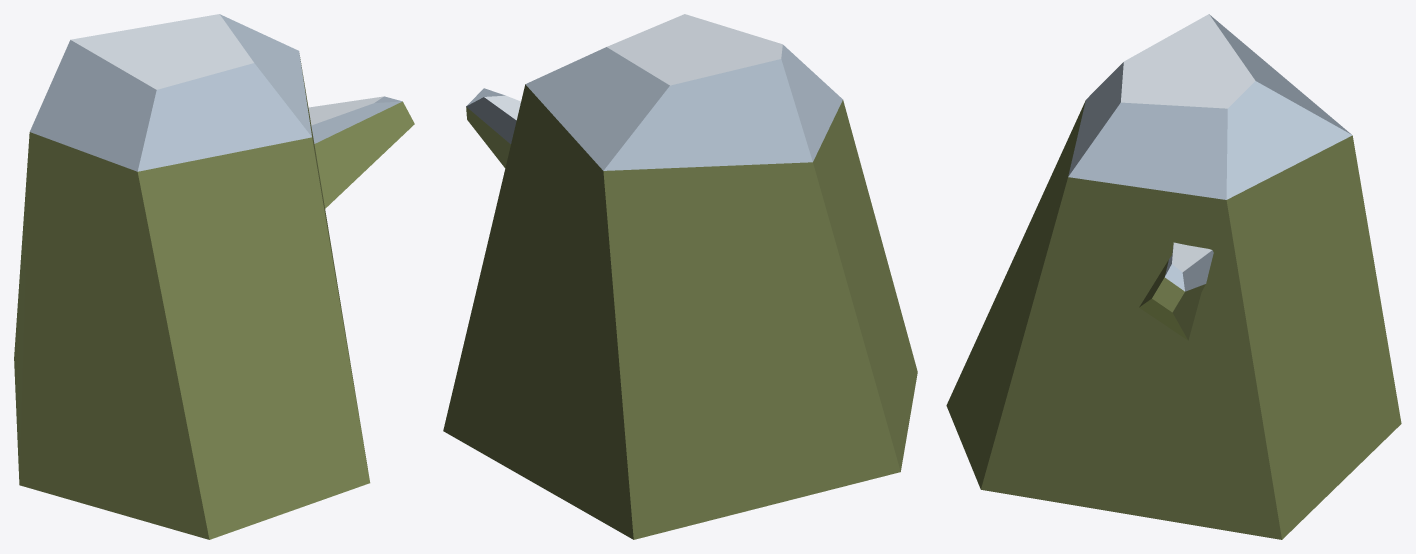
The model's file is StumpWinter1_Alt4.fbx.
3 renders of one model, left to right at view 1: azimuth 30°, elevation 25°; view 2: azimuth 150°, elevation 25°; view 3: azimuth 270°, elevation 25°, orthographic. The views are drawn at different scales.
Parts seen in each view (by area): view 1: StumpWinter1_Alt4; view 2: StumpWinter1_Alt4; view 3: StumpWinter1_Alt4.
Boxes of the visible parts, left/top/right/bottom form: StumpWinter1_Alt4: left=14, top=14, right=414, bottom=539; StumpWinter1_Alt4: left=443, top=14, right=917, bottom=539; StumpWinter1_Alt4: left=946, top=14, right=1401, bottom=539.
Bounding box in the file's own units: 0.5054 × 0.4796 × 0.5074.
